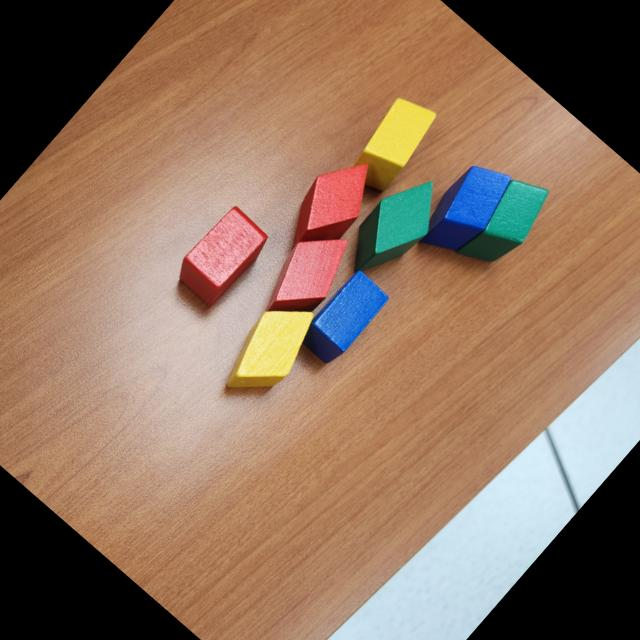blue: (409, 150, 522, 268), (294, 267, 392, 370)
green: (333, 162, 456, 292), (451, 168, 560, 282)
red: (269, 144, 390, 270), (250, 216, 366, 336), (169, 202, 274, 312)
yellow: (208, 287, 330, 414), (340, 88, 446, 198)
